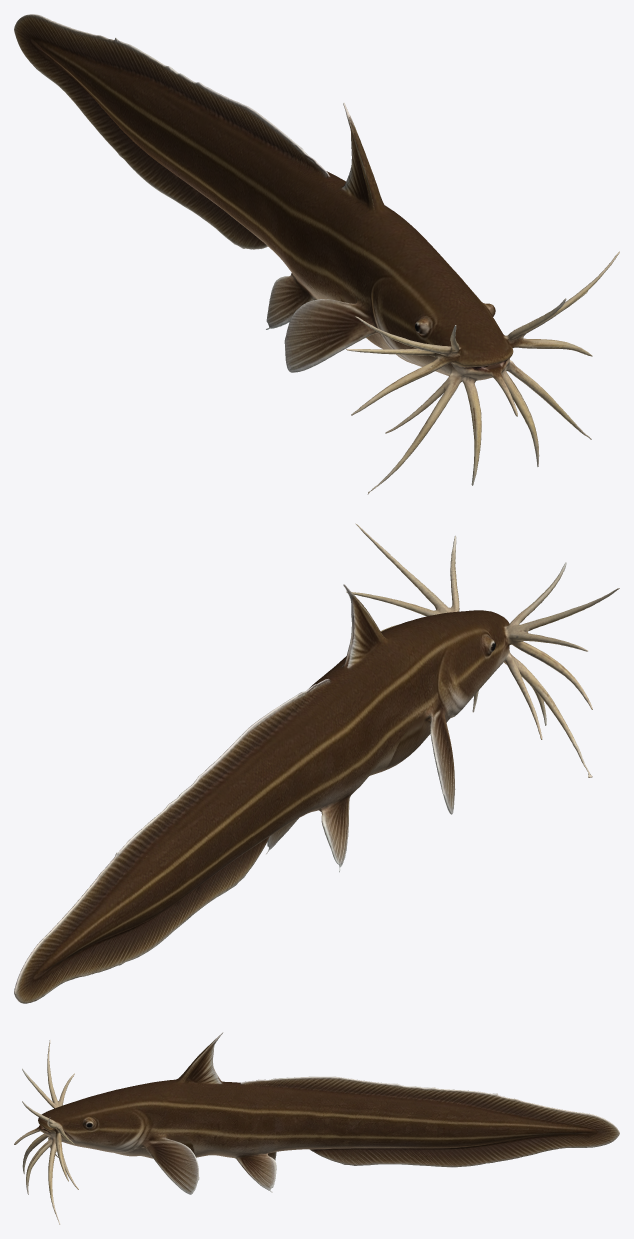
Rendered from gonzui-34e92399c752.glb.
The picture shows the model from 3 angles, top to bottom: view 1: azimuth 30°, elevation 25°; view 2: azimuth 150°, elevation 25°; view 3: azimuth 270°, elevation 25°; orthographic projection. The views are drawn at different scales.
Size of the model in its own units: 0.5804 by 0.5554 by 1.91.
1 material, 1 textured.
